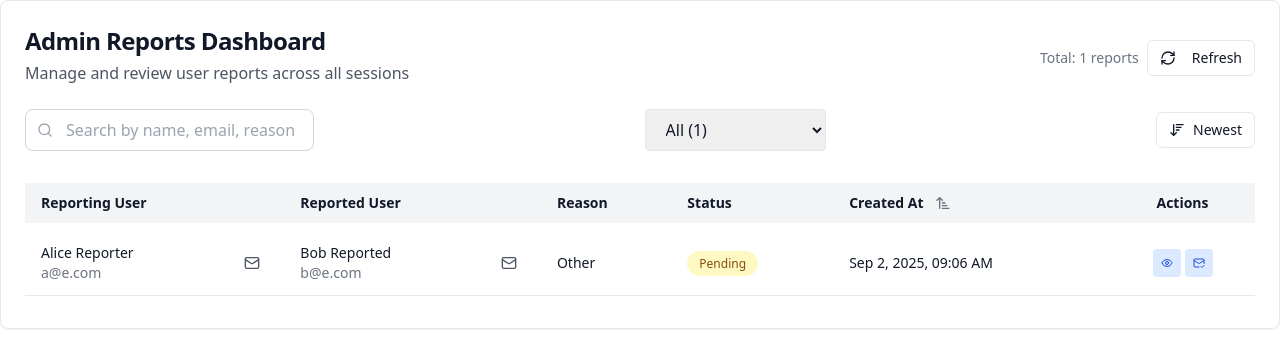
Test case: ReportingContent › marks under review
Expected: the text "Alice Reporter" is shown, x1=41 y1=243 x2=134 y2=263
Click the button titled "Mark as Under Review" at (1198, 263), box x1=1184 y1=249 x2=1212 y2=277
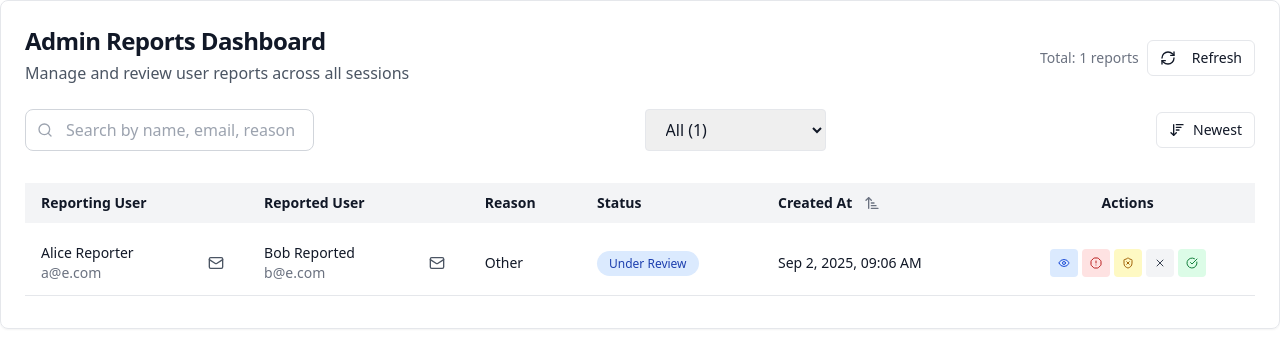
Expected: the text "Under Review" is shown, x1=597 y1=251 x2=699 y2=276
